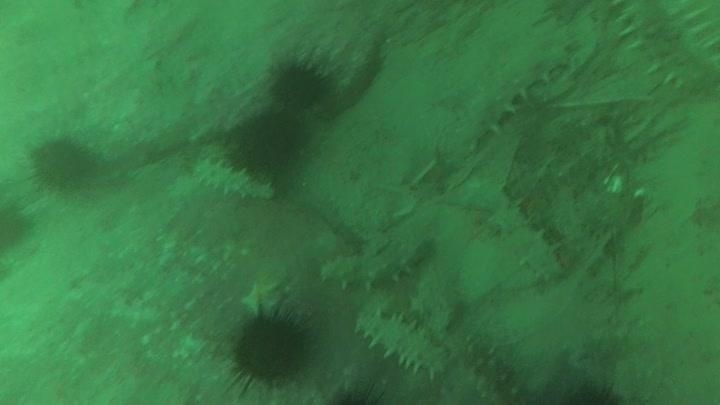echinus: (225, 302, 316, 392), (225, 106, 310, 179), (26, 131, 99, 195), (266, 54, 333, 113), (0, 196, 35, 252), (319, 377, 390, 404)
holothurian: (441, 42, 571, 160), (612, 0, 719, 98), (472, 178, 569, 285), (352, 303, 450, 380), (316, 233, 437, 294), (187, 153, 276, 204)
starfish: (239, 273, 287, 318)
